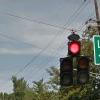Traffic light: (51, 25, 96, 94)
